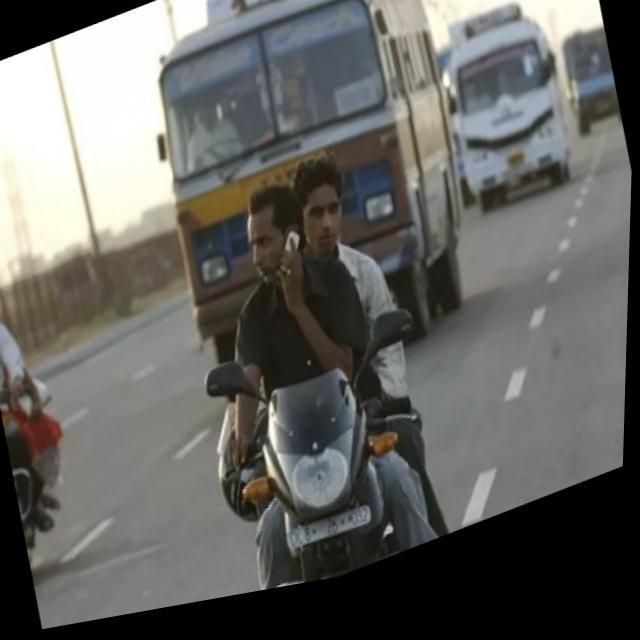Nonhelmet: (236, 174, 309, 289), (291, 152, 347, 270)
